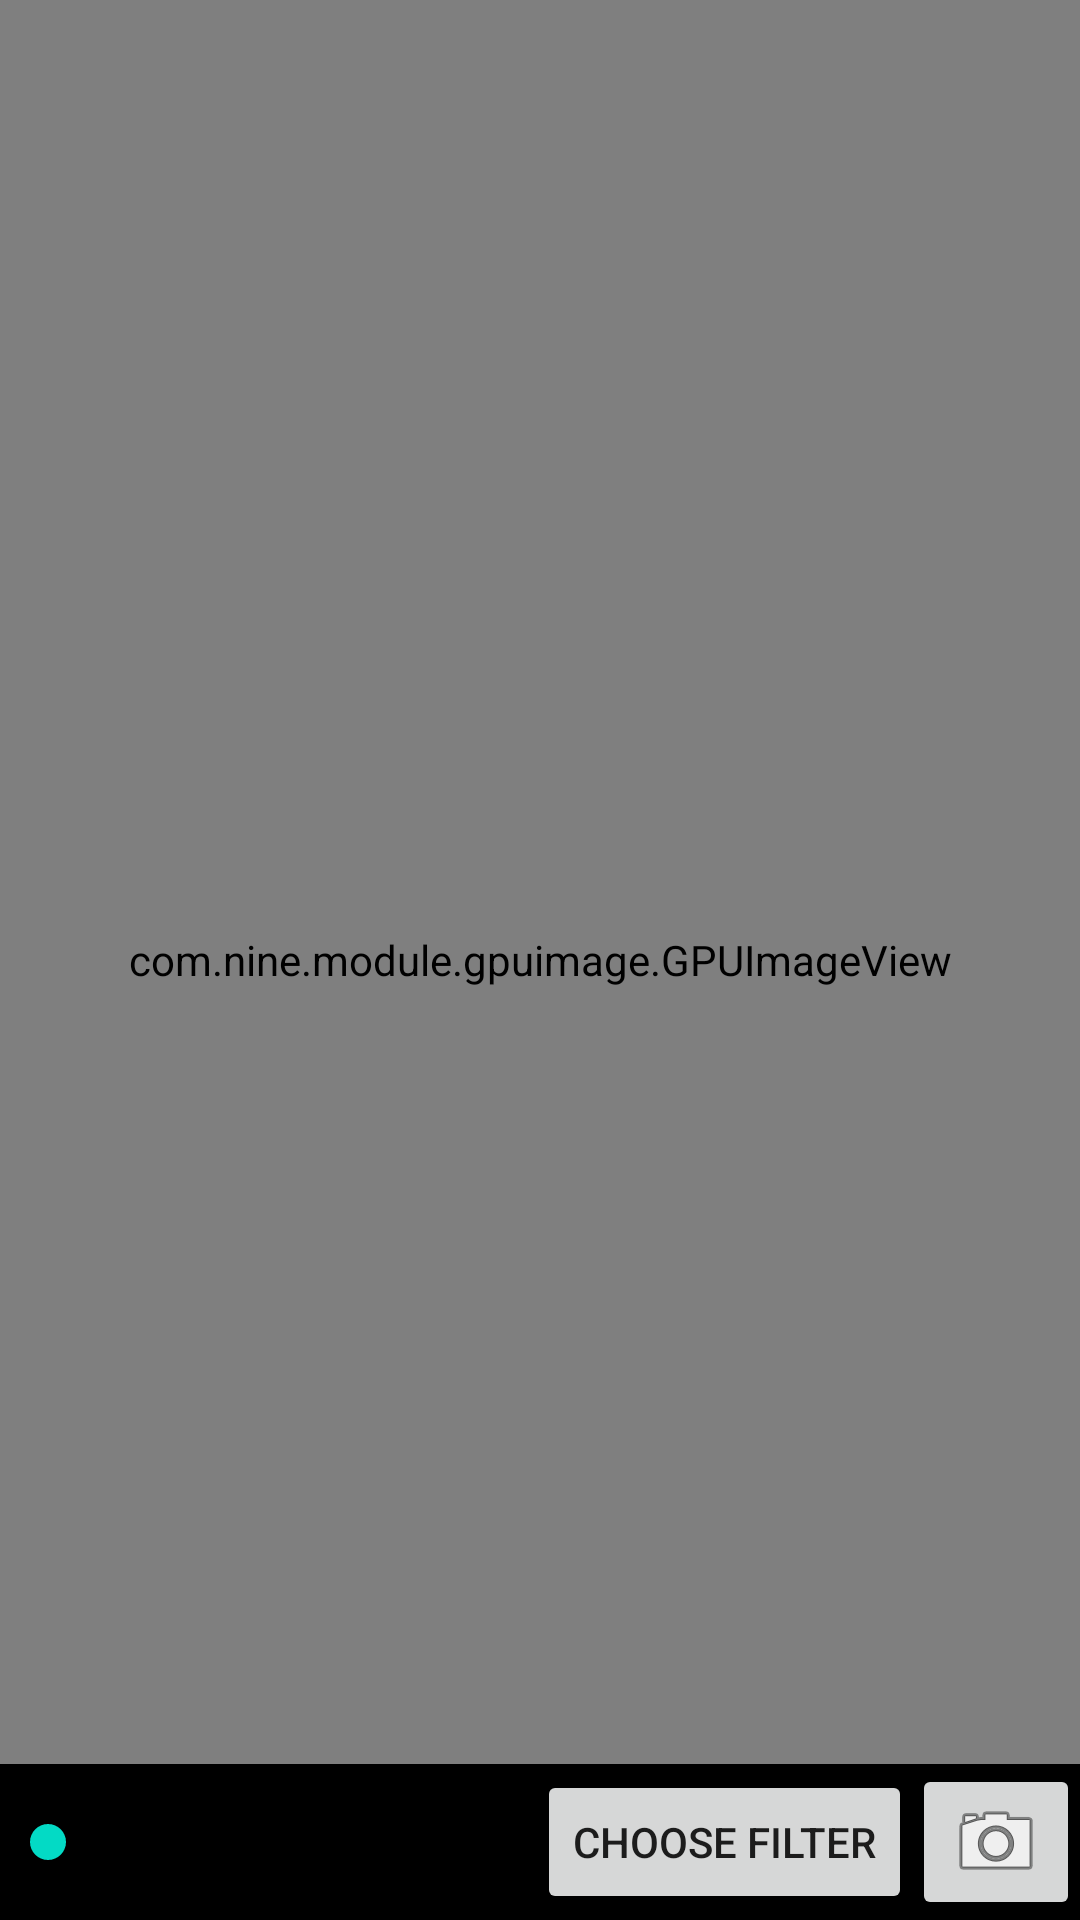

Icons on this 1080x1920 Android screen, each with its box as box(x1, y1, x2, y2):
camera: box(924, 1782, 1068, 1902)
